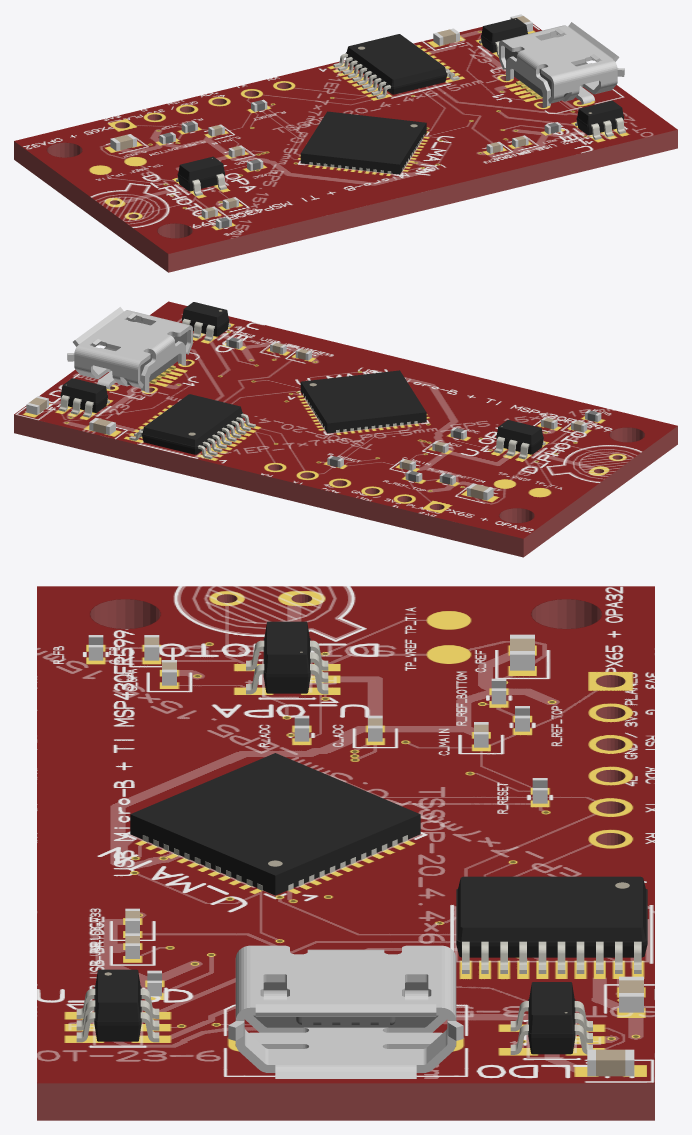
3 views of the same model, one above another, from view 1: azimuth 30°, elevation 25°; view 2: azimuth 150°, elevation 25°; view 3: azimuth 270°, elevation 25° (orthographic). The views are drawn at different scales.
Parts seen in each view (by area): view 1: Box0, J1, U_MAIN, U_USB, U_ESD, U_OPA, U_LDO; view 2: Box0, J1, U_MAIN, U_USB, U_OPA, U_LDO, U_ESD; view 3: Box0, J1, U_MAIN, U_USB, U_ESD, U_OPA, U_LDO, C_LDO_IN, C_LDO_OUT, C_REF.
Boxes of the visible parts, x1=… form: Box0: x1=14, y1=24, x2=677, y2=272; J1: x1=499, y1=22, x2=624, y2=107; U_MAIN: x1=300, y1=111, x2=426, y2=174; U_USB: x1=333, y1=34, x2=459, y2=98; U_ESD: x1=575, y1=100, x2=625, y2=139; U_OPA: x1=176, y1=156, x2=226, y2=196; U_LDO: x1=479, y1=18, x2=527, y2=56; Box0: x1=14, y1=301, x2=677, y2=557; J1: x1=67, y1=307, x2=192, y2=392; U_MAIN: x1=300, y1=370, x2=426, y2=433; U_USB: x1=129, y1=394, x2=255, y2=459; U_OPA: x1=494, y1=420, x2=545, y2=459; U_LDO: x1=58, y1=378, x2=109, y2=417; U_ESD: x1=182, y1=302, x2=230, y2=341; Box0: x1=37, y1=586, x2=654, y2=1120; J1: x1=228, y1=945, x2=463, y2=1078; U_MAIN: x1=130, y1=753, x2=420, y2=895; U_USB: x1=456, y1=876, x2=647, y2=973; U_ESD: x1=76, y1=969, x2=159, y2=1042; U_OPA: x1=246, y1=621, x2=328, y2=694; U_LDO: x1=510, y1=982, x2=592, y2=1054; C_LDO_IN: x1=587, y1=1049, x2=634, y2=1076; C_LDO_OUT: x1=619, y1=976, x2=643, y2=1012; C_REF: x1=510, y1=634, x2=534, y2=670.
Bounding box in the file's own units: 40 × 4.13 × 21.
13 materials, 2 textured.
